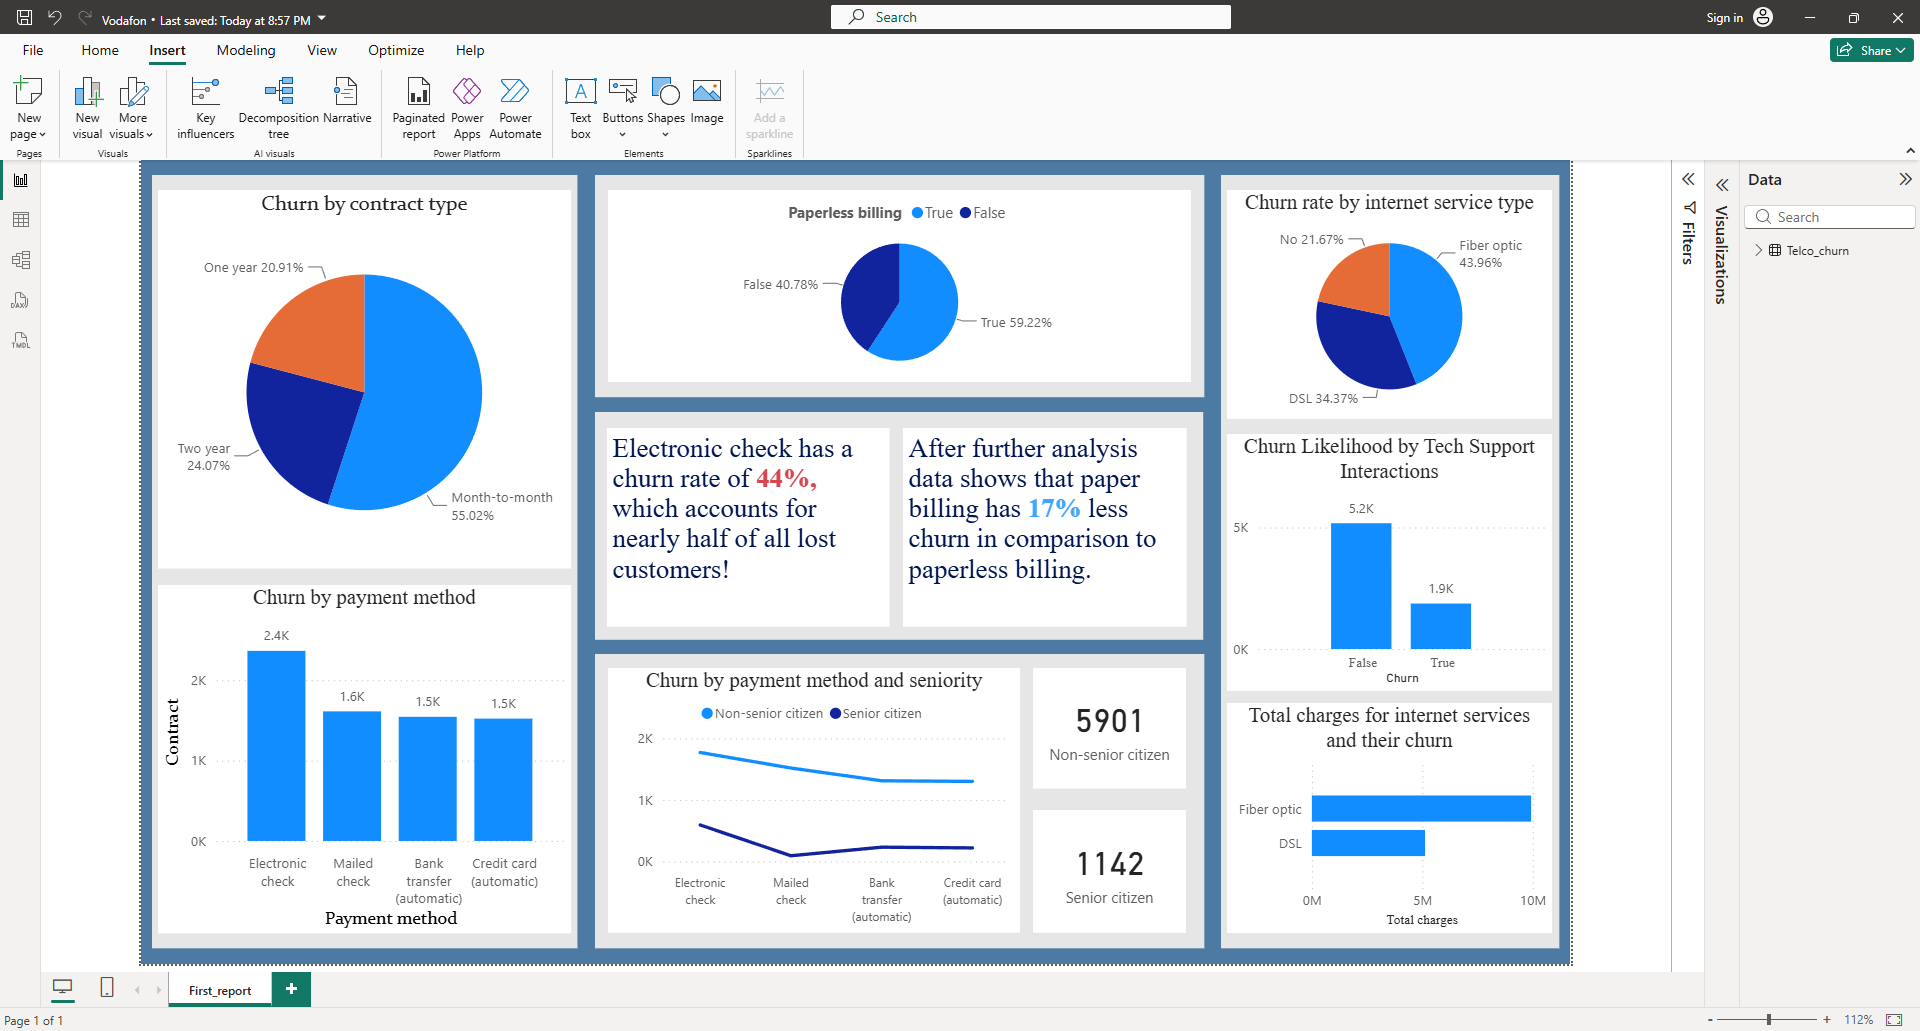

The page's visual inventory and layout, read from the dashboard file:
{"tool":"powerbi","page":{"name":"First_report","canvas":[1280,720],"ordinal":0},"visuals":[{"type":"shape","box":[0,0,1279.7,720],"z":0},{"type":"shape","box":[406.6,13.6,545.7,199.4],"z":1000},{"type":"shape","box":[406.6,225.7,544.7,204.3],"z":2000},{"type":"shape","box":[9.7,13.6,381.3,692.5],"z":3000},{"type":"pieChart","title":"Churn by contract type","fields":{"Category":["WA_Fn-UseC_-Telco-Customer-Churn.Contract","Telco_churn.Churn"],"Y":["CountNonNull(Telco_churn.Contract)"]},"box":[15.6,27.2,369.6,339.5],"z":4000},{"type":"shape","box":[406.6,442.6,545.7,263.6],"z":5000},{"type":"columnChart","title":"Churn by payment method","fields":{"Category":["Telco_churn.PaymentMethod","Telco_churn.Churn"],"Y":["CountNonNull(Telco_churn.Contract)"]},"box":[15.6,380.3,369.6,312.2],"z":6000},{"type":"lineChart","title":"Churn by payment method and seniority","fields":{"Category":["Telco_churn.PaymentMethod","Telco_churn.Churn"],"Y":["Telco_churn.Nonsenior","Telco_churn.Issenior"]},"box":[418.2,454.9,369,237.3],"z":7000},{"type":"card","fields":{"Values":["Telco_churn.Nonsenior"]},"box":[798.8,454.9,137,108.4],"z":8000},{"type":"shape","box":[966.8,13.6,303.5,692.5],"z":9000},{"type":"card","fields":{"Values":["Telco_churn.Issenior"]},"box":[798.8,582.1,137,110.1],"z":10000},{"type":"pieChart","title":"Churn rate by internet service type","fields":{"Y":["CountNonNull(Telco_churn.InternetService)"],"Category":["Telco_churn.InternetService","Telco_churn.Churn"]},"box":[972.6,27.2,290.8,205.2],"z":11000},{"type":"barChart","title":"Total charges for internet services and their churn","fields":{"Category":["Telco_churn.InternetService","Telco_churn.Churn"],"Y":["Sum(Telco_churn.TotalCharges)"]},"box":[972.6,486.3,290.8,206.2],"z":12000},{"type":"columnChart","title":"Churn Likelihood by Tech Support Interactions","fields":{"Category":["Telco_churn.Churn"],"Y":["CountNonNull(Telco_churn.TechSupport)"]},"box":[972.6,245.1,290.8,229.5],"z":14000},{"type":"textbox","box":[417.3,240.2,253,178],"z":15000},{"type":"textbox","box":[682.8,240.2,253.9,178],"z":16000},{"type":"pieChart","fields":{"Y":["CountNonNull(Telco_churn.PaperlessBilling)"],"Category":["Telco_churn.PaperlessBilling","Telco_churn.Churn"]},"box":[418.2,27.2,522.3,172.2],"z":17000}]}

Visuals, with their boxes on the page's 1280x720 design canvas (x1, y1, x2, y2). These are canvas units, not pixel positions in the 1920x1031 screenshot, which may show the page scaled, cropped or inside an application window:
shape: [0,0,1280,720]
shape: [407,14,952,213]
shape: [407,226,951,430]
shape: [10,14,391,706]
"Churn by contract type" pieChart: [16,27,385,367]
shape: [407,443,952,706]
"Churn by payment method" columnChart: [16,380,385,692]
"Churn by payment method and seniority" lineChart: [418,455,787,692]
card - Telco_churn.Nonsenior: [799,455,936,563]
shape: [967,14,1270,706]
card - Telco_churn.Issenior: [799,582,936,692]
"Churn rate by internet service type" pieChart: [973,27,1263,232]
"Total charges for internet services and their churn" barChart: [973,486,1263,692]
"Churn Likelihood by Tech Support Interactions" columnChart: [973,245,1263,475]
textbox: [417,240,670,418]
textbox: [683,240,937,418]
pieChart - CountNonNull(Telco_churn.PaperlessBilling) x Telco_churn.PaperlessBilling: [418,27,940,199]
